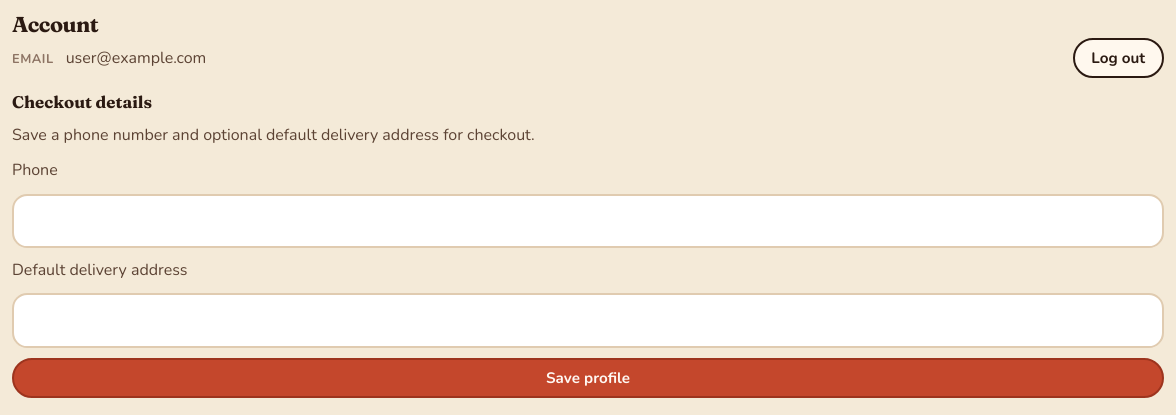
Test: AccountPanel › saves a profile for the signed-in user
Expected: the text "user@example.com" is shown, 66,46 -> 206,71
Type "050 123-4567" into the field labelled "Phone". click: [588, 221]
box: 12,194 -> 1164,248
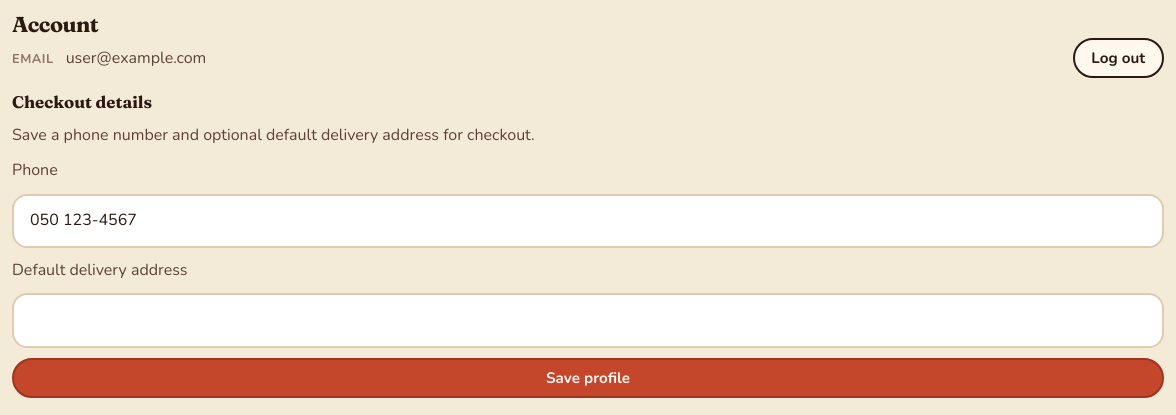
Type "10 Herzl St" into the field labelled "Default delivery address". click: [588, 321]
box: 12,294 -> 1164,348
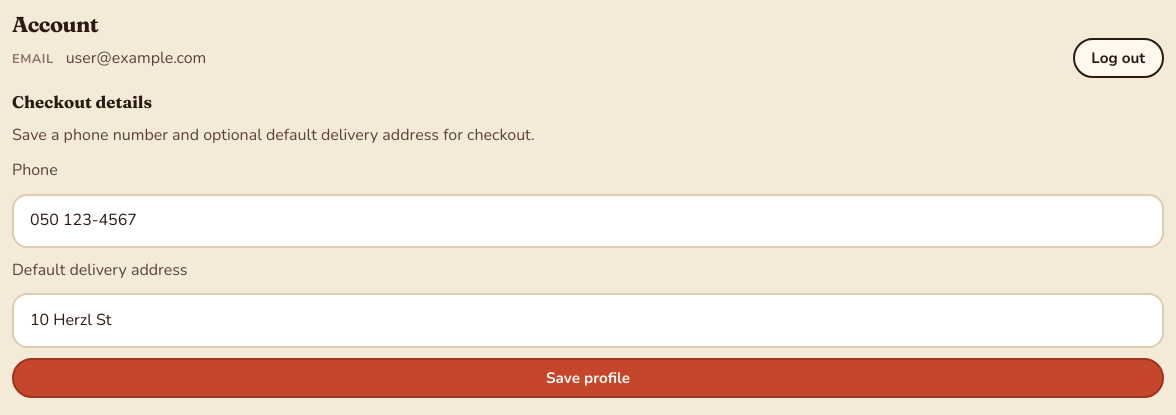
Click the button "Save profile". click: [588, 378]
box: 12,358 -> 1164,398
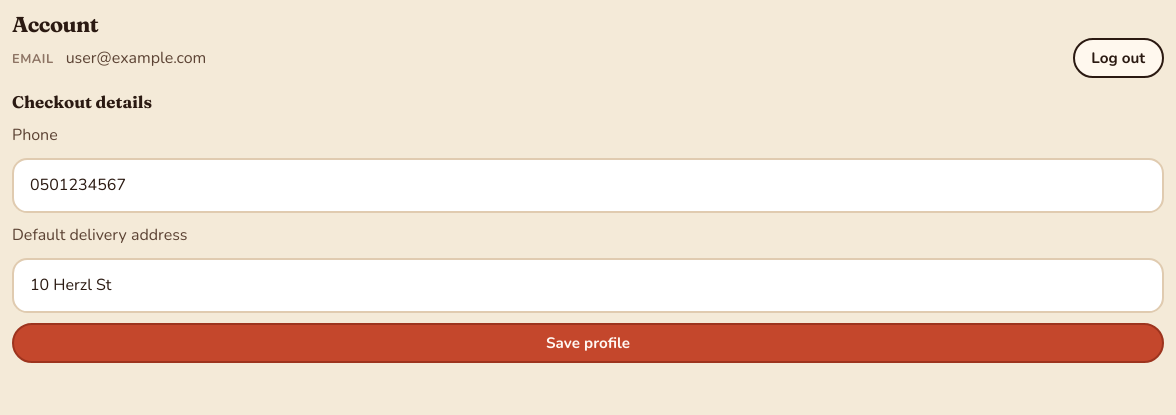
Now the field showing "0501234567" is shown, box 12,158 -> 1164,213
